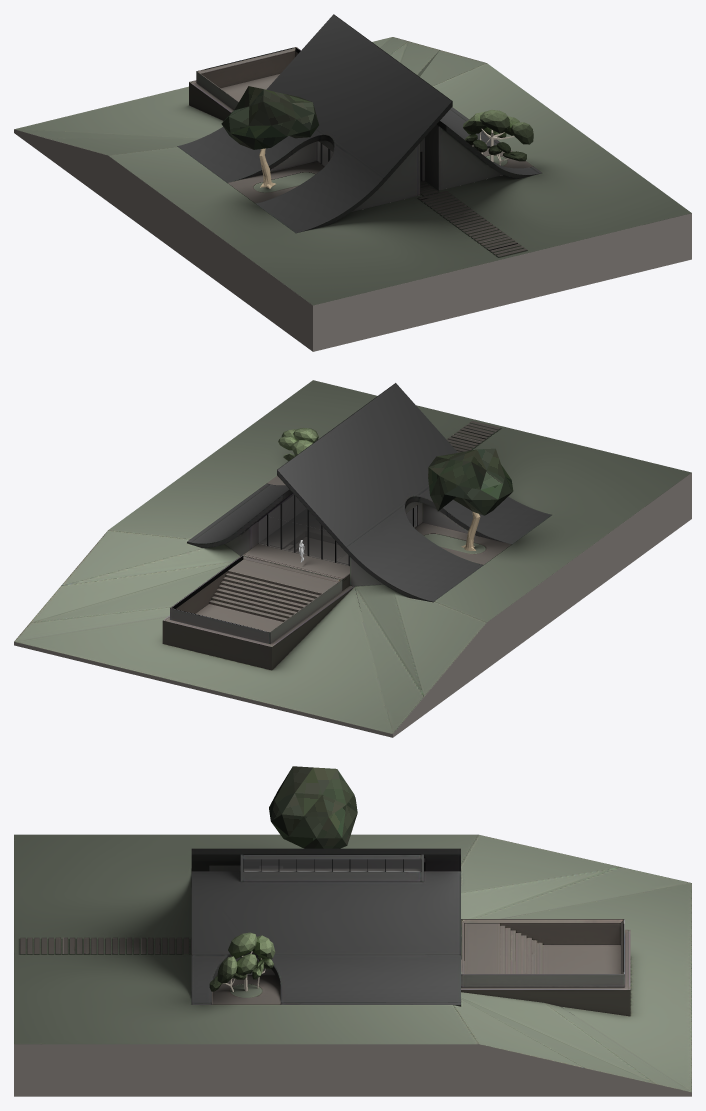
File: cabana-tusa.glb
3 views of the same model, one above another, from view 1: azimuth 30°, elevation 25°; view 2: azimuth 150°, elevation 25°; view 3: azimuth 270°, elevation 25° (orthographic). The views are drawn at different scales.
Visible parts, largest first — view 1: C-TOPO, TOPO, A-ROOF, A-FLOR, I-WALL, 3DGeom-4, 3DGeom-1; view 2: C-TOPO, A-ROOF, A-FLOR, TOPO, I-WALL, 3DGeom-4, A-GLAZ-CURT, 3DGeom-1, A-GLAZ-CWMG; view 3: C-TOPO, A-ROOF, TOPO, A-FLOR, I-WALL, 3DGeom-4, A-GLAZ-CURT, 3DGeom-1.
Part boxes in pixels (box(x1,y1,x2,y2)): C-TOPO: box(15, 37, 691, 305); TOPO: box(14, 129, 691, 351); A-ROOF: box(177, 14, 541, 232); A-FLOR: box(189, 47, 532, 256); I-WALL: box(196, 47, 502, 211); 3DGeom-4: box(221, 86, 318, 188); 3DGeom-1: box(463, 110, 533, 165); C-TOPO: box(14, 380, 691, 733); A-ROOF: box(187, 383, 551, 602); A-FLOR: box(162, 421, 511, 670); TOPO: box(14, 473, 691, 737); I-WALL: box(170, 493, 476, 643); 3DGeom-4: box(428, 448, 513, 550); A-GLAZ-CURT: box(259, 494, 416, 565); 3DGeom-1: box(278, 428, 318, 460); A-GLAZ-CWMG: box(267, 495, 413, 565); C-TOPO: box(14, 834, 691, 1092); A-ROOF: box(191, 848, 460, 1006); TOPO: box(14, 898, 691, 1096); A-FLOR: box(20, 868, 630, 1016); I-WALL: box(209, 854, 624, 987); 3DGeom-4: box(269, 766, 357, 848); A-GLAZ-CURT: box(236, 859, 420, 974); 3DGeom-1: box(209, 932, 275, 991).
Bounding box in the file's own units: 27.9 × 10.27 × 38.15.
13 materials, 7 textured.
